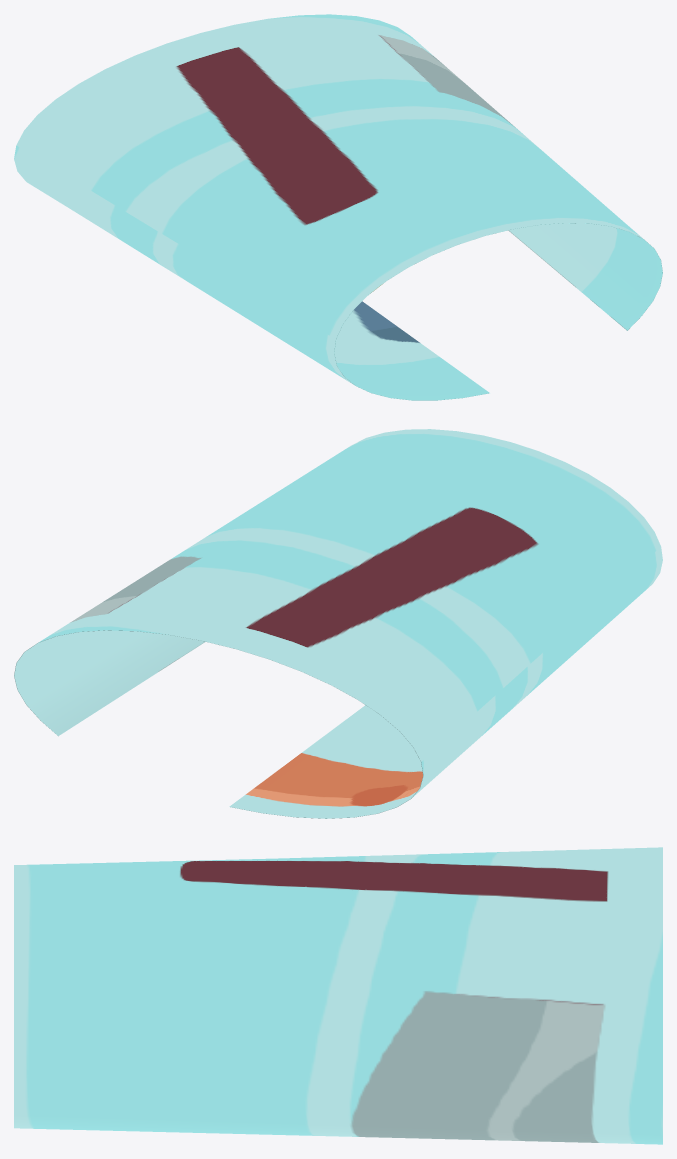
Rendered from Level 90.fbx.
3 renders of one model, top to bottom at view 1: azimuth 30°, elevation 25°; view 2: azimuth 150°, elevation 25°; view 3: azimuth 270°, elevation 25°, orthographic. The views are drawn at different scales.
Visible parts, largest first — view 1: polySurface17; view 2: polySurface17; view 3: polySurface17.
Part boxes in pixels (x1,y1,x2,y2): polySurface17: (14,14,662,400); polySurface17: (14,429,662,818); polySurface17: (14,847,662,1144).
Size of what is drawn, in the model's own units: 849 by 316 by 1007.
